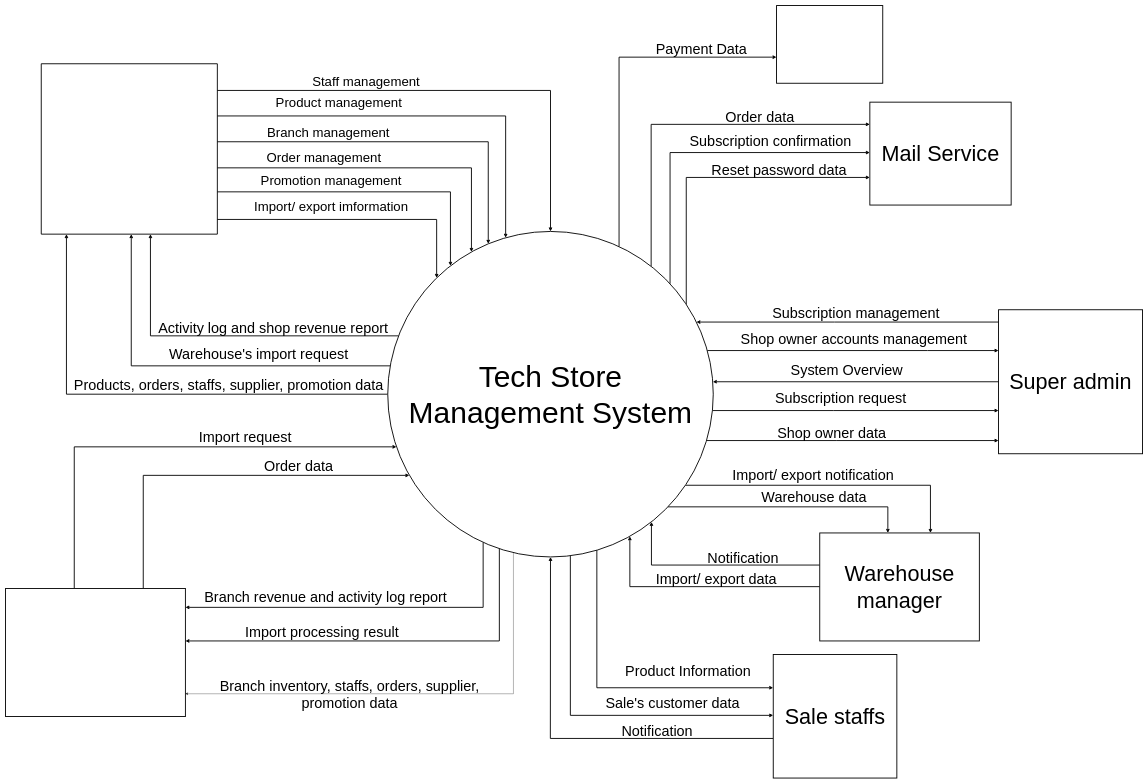
Image size: 1148x784. Some labels were removed from this diagram. The shapes that lost their labels are listed below. From the top down, each one's centre as x and y in pixels, then its label:
the point at 829,44: VietQR
the point at 129,148: Shop owner
the point at 95,652: Branch manager
